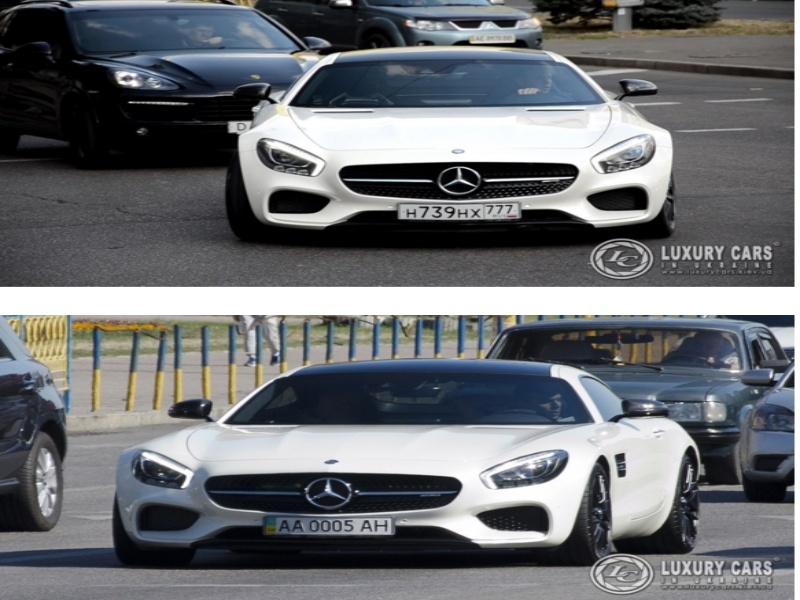car: (112, 359, 701, 559), (227, 46, 677, 240), (1, 1, 327, 157), (484, 318, 790, 482), (1, 317, 67, 531), (255, 1, 543, 47), (742, 360, 795, 500)
person: (232, 315, 286, 366), (514, 383, 566, 422), (508, 63, 557, 94), (693, 329, 726, 363), (185, 23, 223, 47)
plate: (263, 513, 393, 536), (399, 202, 519, 221), (471, 34, 513, 44)
